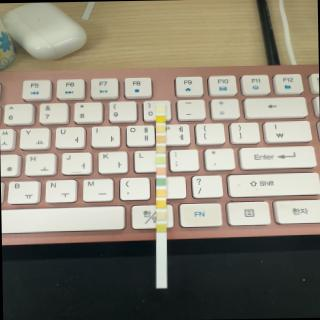mark: (156, 145, 166, 154), (157, 223, 166, 232), (156, 200, 166, 208), (156, 190, 166, 198), (156, 156, 166, 164), (156, 212, 165, 220), (156, 178, 165, 186), (157, 167, 166, 175), (156, 134, 165, 142), (156, 115, 166, 122), (155, 105, 165, 112), (156, 125, 164, 132)
